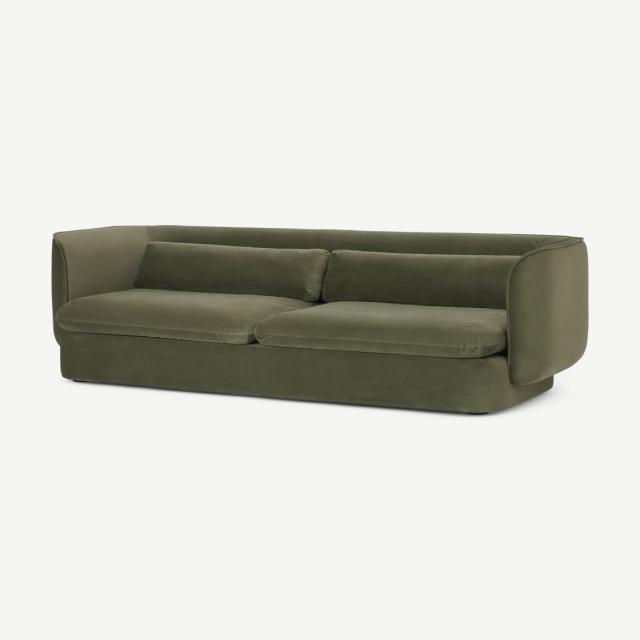Soffa: (47, 215, 592, 424)
